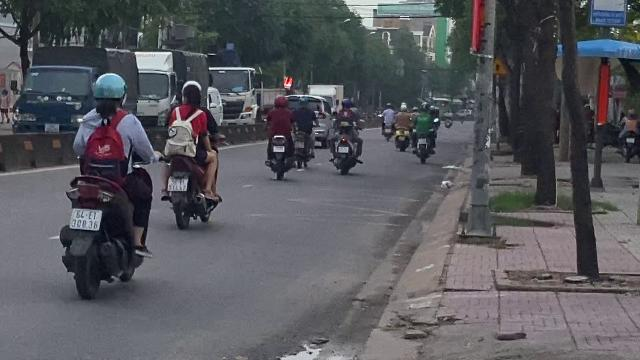helmet: (90, 72, 128, 112)
licenseplate: (70, 209, 100, 229), (167, 178, 187, 190)
motorcyclist: (58, 71, 156, 299), (158, 80, 222, 228)
nohelmet: (181, 84, 201, 108)
